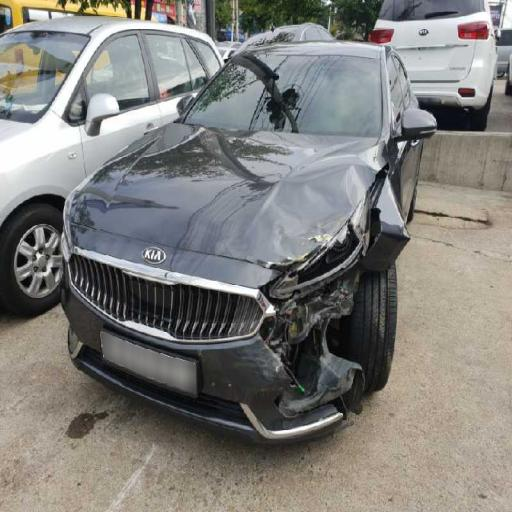broken: (246, 199, 462, 420)
dent: (204, 120, 350, 194)
